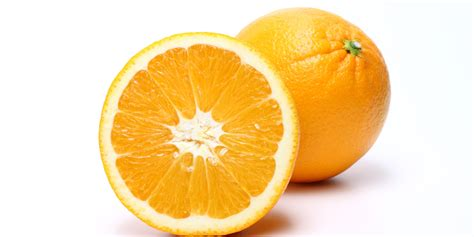orange: (237, 5, 393, 189)
